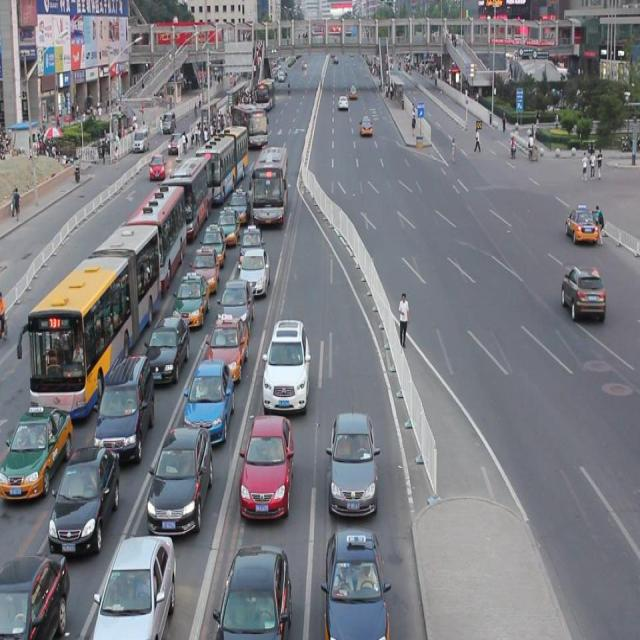car: (93, 522, 175, 640), (320, 525, 391, 640), (48, 439, 121, 548), (214, 537, 290, 640), (148, 420, 214, 530), (1, 398, 74, 497), (0, 545, 70, 640), (95, 346, 154, 456), (326, 406, 379, 509), (240, 409, 292, 513), (262, 314, 311, 411), (184, 356, 233, 438), (145, 308, 189, 381), (206, 307, 249, 379), (560, 266, 604, 318), (218, 274, 254, 332), (172, 267, 209, 322), (189, 239, 220, 290), (238, 244, 270, 290), (564, 204, 597, 243), (239, 218, 264, 264), (201, 218, 226, 260), (216, 201, 240, 241), (227, 183, 251, 218), (359, 116, 372, 136)
van: (17, 215, 162, 416), (124, 178, 186, 287), (159, 148, 213, 235), (197, 118, 248, 200), (249, 146, 288, 223), (231, 104, 268, 148)
